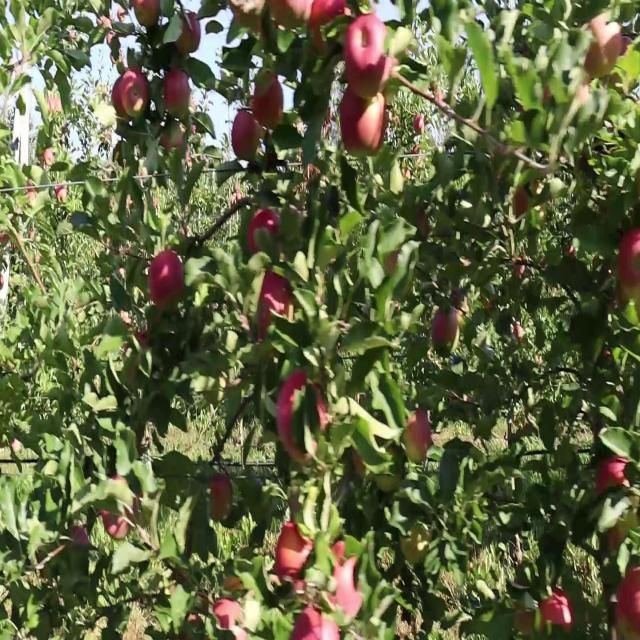apple: (276, 369, 331, 466), (344, 14, 390, 98), (340, 85, 386, 160), (276, 369, 310, 462), (328, 540, 364, 620), (256, 270, 295, 343), (148, 248, 187, 311), (276, 519, 314, 583), (104, 485, 144, 540), (312, 0, 350, 55), (252, 71, 286, 132), (592, 14, 628, 66), (404, 405, 433, 468), (248, 206, 283, 258), (232, 106, 262, 165), (616, 568, 640, 638), (540, 590, 576, 633), (308, 7, 344, 50), (120, 312, 151, 357), (596, 455, 630, 496), (164, 71, 193, 119), (124, 71, 150, 121), (400, 526, 431, 567), (176, 14, 204, 59), (620, 227, 640, 290), (208, 476, 234, 523), (604, 21, 630, 68), (232, 1, 265, 34), (292, 604, 323, 639), (432, 312, 459, 352), (160, 120, 187, 158), (316, 383, 332, 441), (584, 42, 608, 80), (132, 0, 161, 30), (228, 7, 260, 34), (268, 7, 304, 30), (104, 7, 124, 46), (240, 7, 265, 37), (276, 7, 310, 28), (112, 78, 128, 121), (512, 184, 531, 220), (516, 604, 537, 636), (100, 14, 119, 44), (608, 526, 627, 556), (352, 447, 369, 478), (384, 248, 400, 277), (416, 213, 433, 240), (72, 526, 90, 548), (48, 92, 64, 116), (452, 284, 465, 313), (512, 255, 527, 279), (576, 85, 592, 107), (484, 291, 497, 313), (516, 319, 526, 343), (636, 170, 640, 201)
